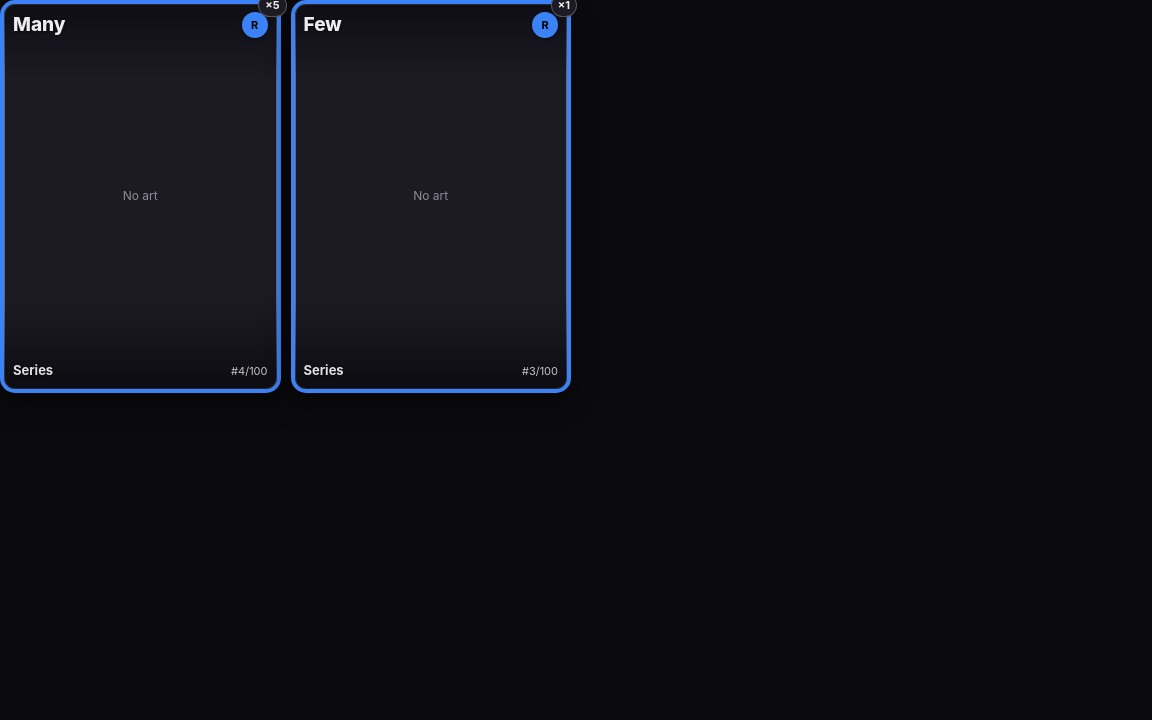
Scenario: SellTab and SellDialog › shows fee and net for 100 and lists at a fixed price
Later steps or results of the test are not shown.
Step 1. Click the button "No art Many R Series #4/100 ×5" → [140, 196], box left=0, top=0, right=280, bottom=393
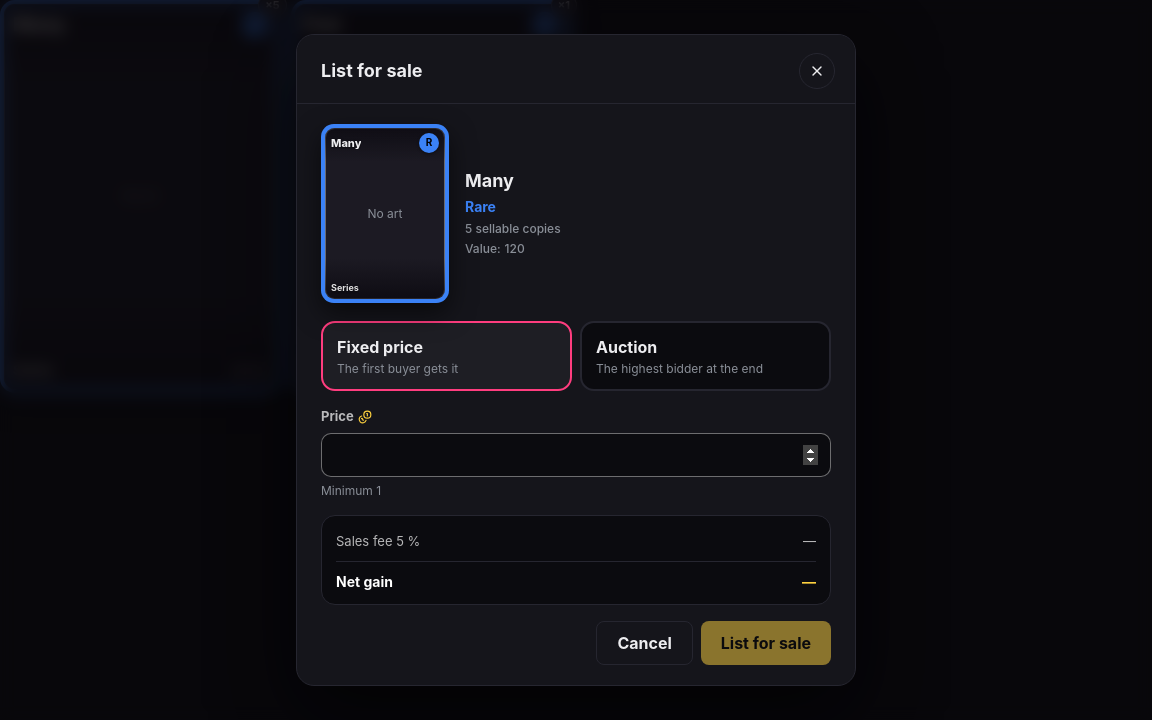
Expected: the text "120" is shown, left=505, top=241, right=525, bottom=257
Step 2. Type "100" into the number field labelled "Price" → [576, 455], box left=321, top=433, right=831, bottom=477
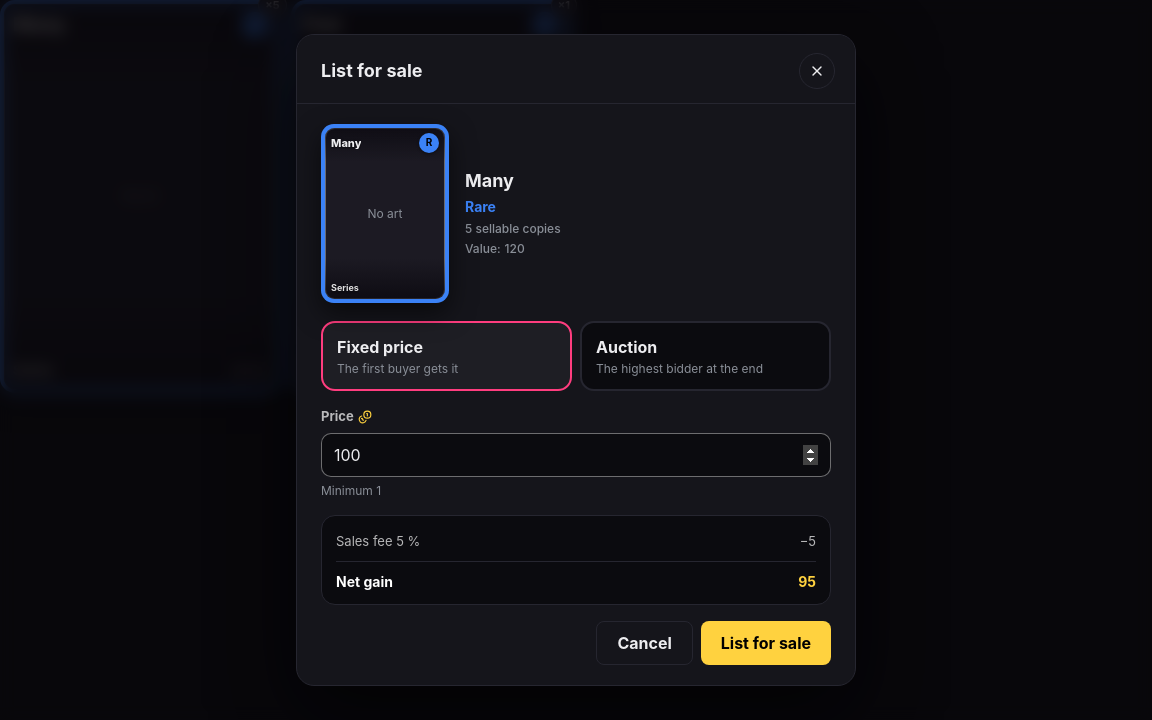
Expected: the text with test id "fee" reads "−5", left=800, top=533, right=816, bottom=549
Expected: the text with test id "net" reads "95", left=798, top=573, right=816, bottom=590
